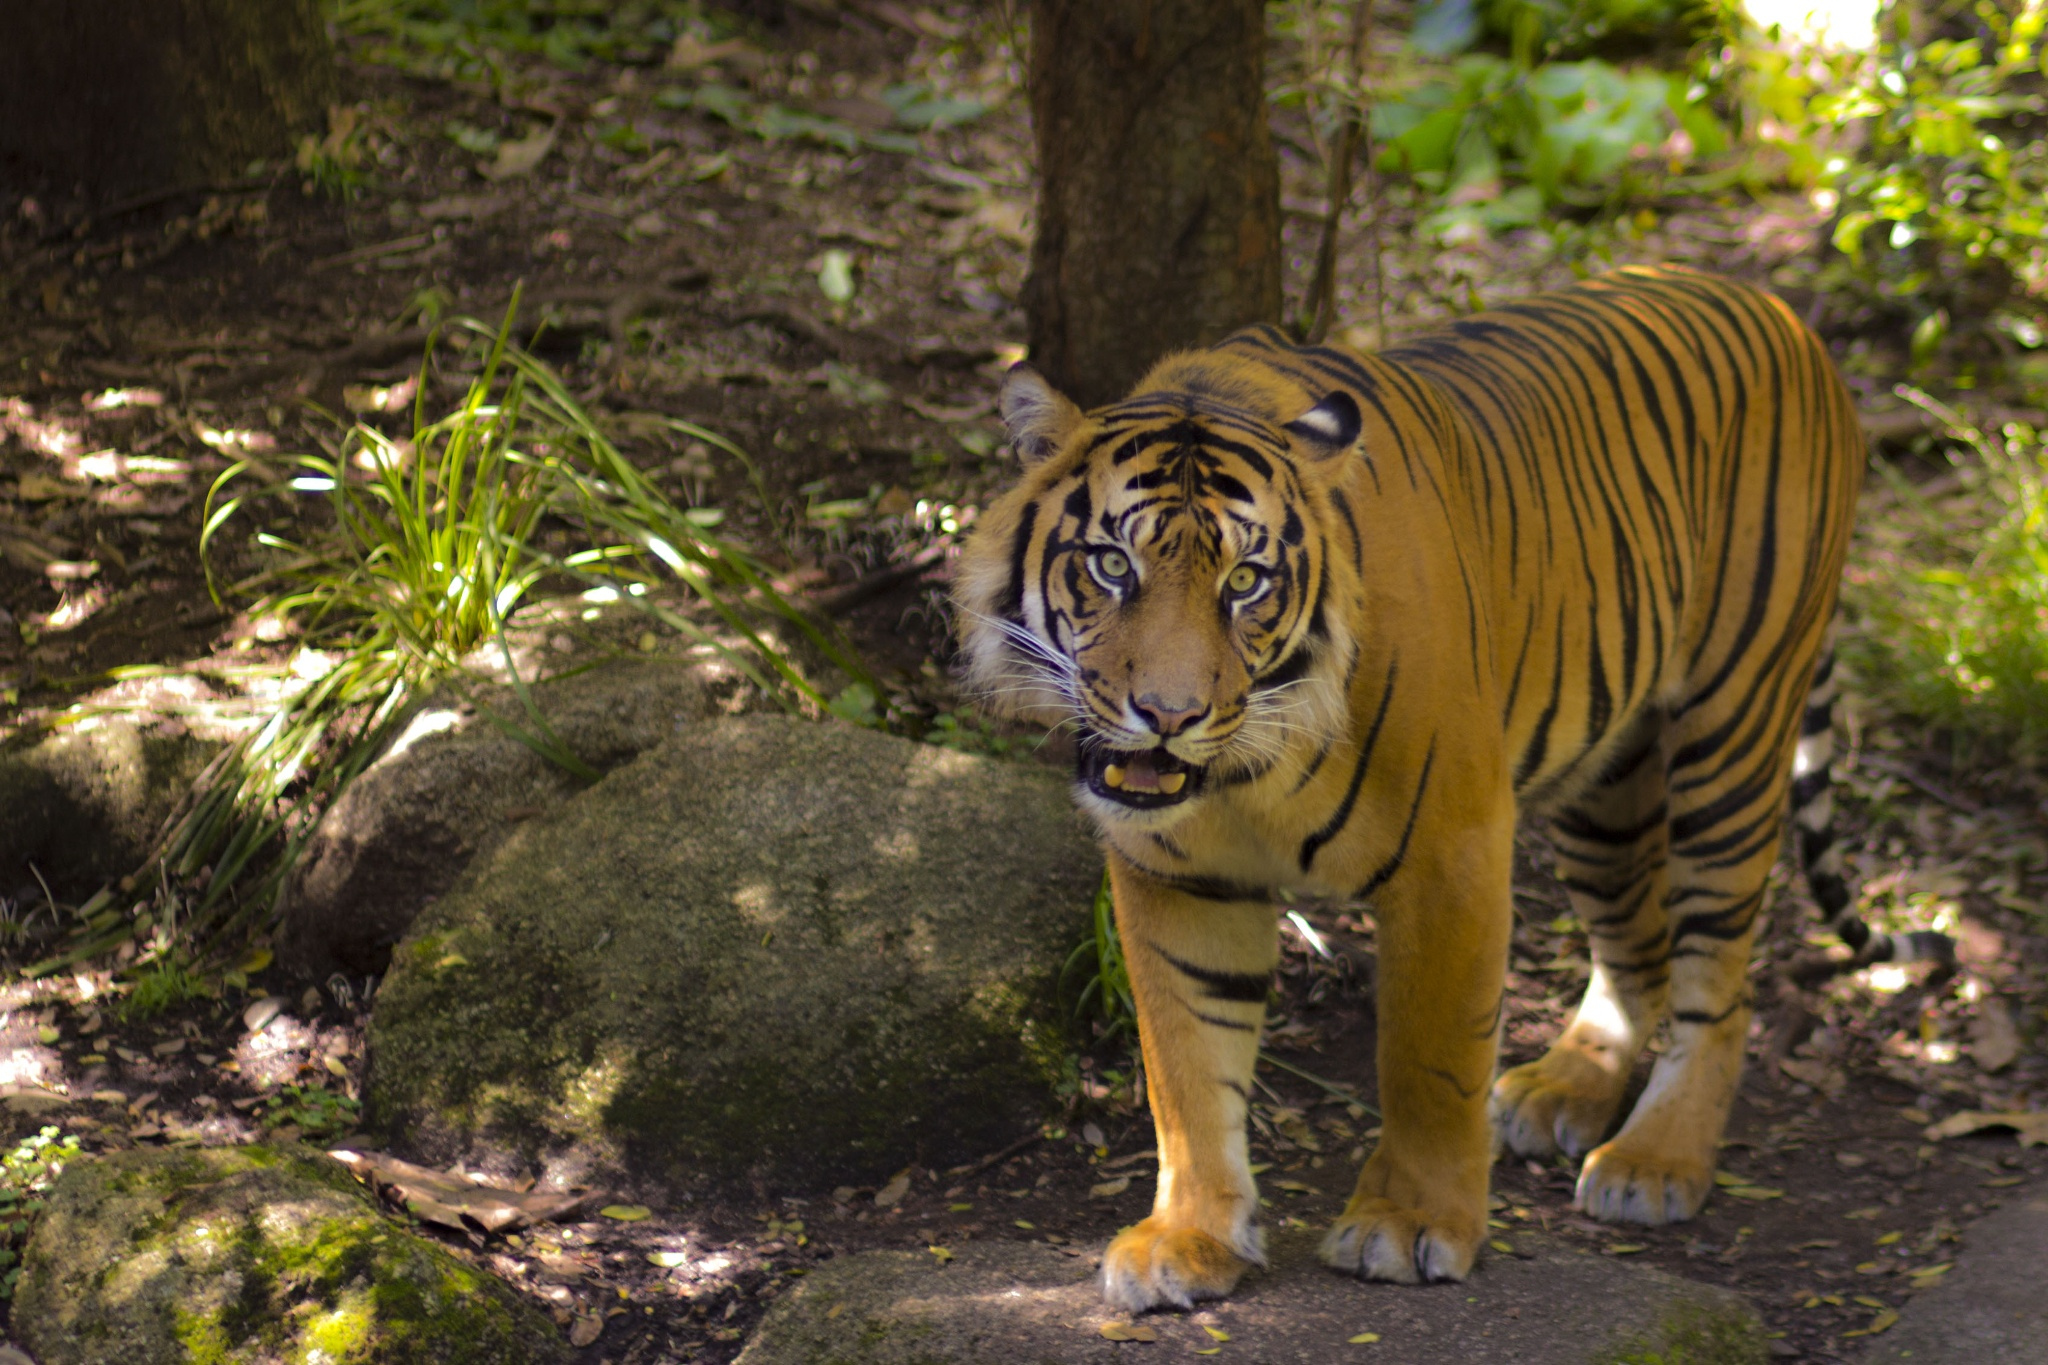tiger: (973, 236, 1858, 1243)
